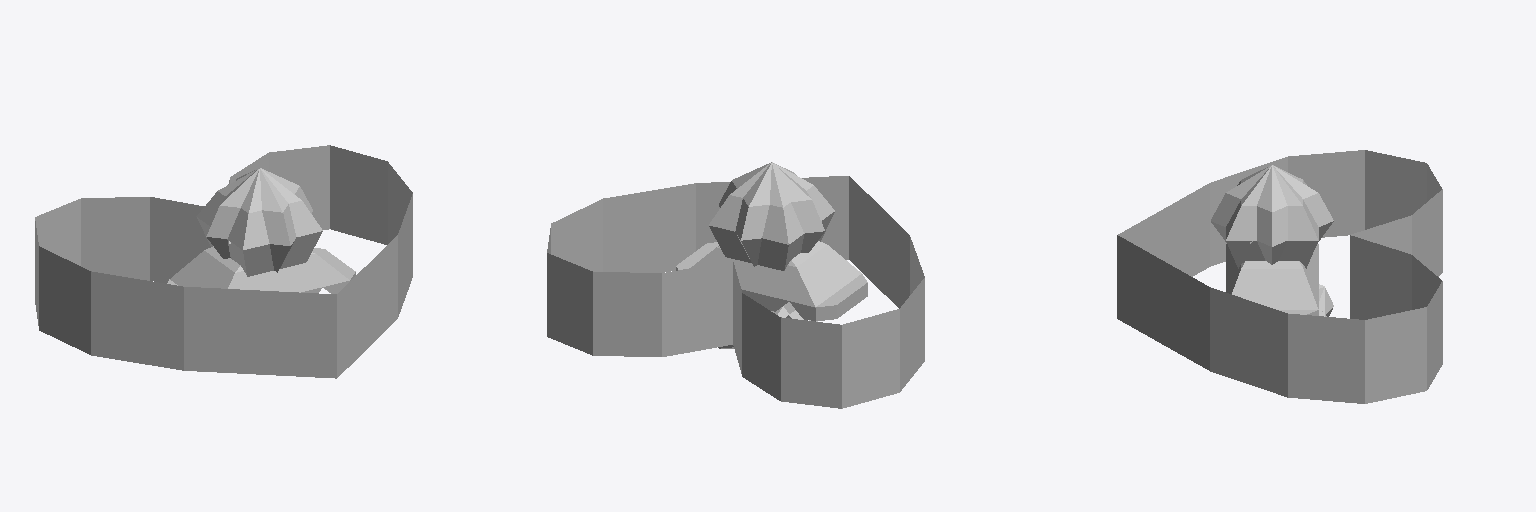
Rendered from basic_shapes.obj.
3 views of the same model, side by side, from view 1: azimuth 30°, elevation 25°; view 2: azimuth 150°, elevation 25°; view 3: azimuth 270°, elevation 25° (orthographic).
Visible parts, largest first — view 1: heart-f0f_Cube.003, treeRect-0a0_treeRectG, car-f00_carG, treeDiag-6a0_treeDiagG; view 2: heart-f0f_Cube.003, car-f00_carG, treeRect-0a0_treeRectG, treeDiag-6a0_treeDiagG; view 3: heart-f0f_Cube.003, car-f00_carG, treeDiag-6a0_treeDiagG, treeRect-0a0_treeRectG.
Boxes of the visible parts, x1,y1,x2,y2 form: heart-f0f_Cube.003: [35, 145, 412, 378]; treeRect-0a0_treeRectG: [196, 168, 322, 276]; car-f00_carG: [167, 246, 355, 293]; treeDiag-6a0_treeDiagG: [206, 168, 312, 272]; heart-f0f_Cube.003: [547, 176, 924, 408]; car-f00_carG: [676, 241, 867, 321]; treeRect-0a0_treeRectG: [709, 162, 834, 313]; treeDiag-6a0_treeDiagG: [719, 162, 824, 266]; heart-f0f_Cube.003: [1117, 150, 1442, 403]; car-f00_carG: [1226, 244, 1318, 315]; treeDiag-6a0_treeDiagG: [1211, 165, 1333, 264]; treeRect-0a0_treeRectG: [1226, 165, 1318, 268].
Bounding box in the file's own units: 26 × 13 × 21.